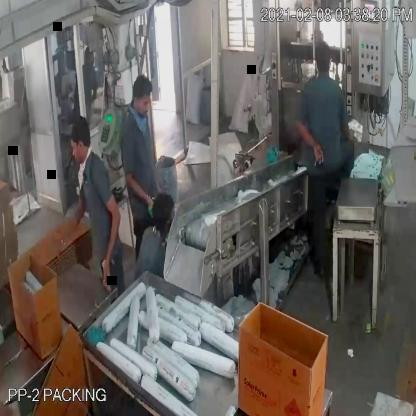no_glove: (92, 176, 129, 296), (293, 113, 328, 172)
